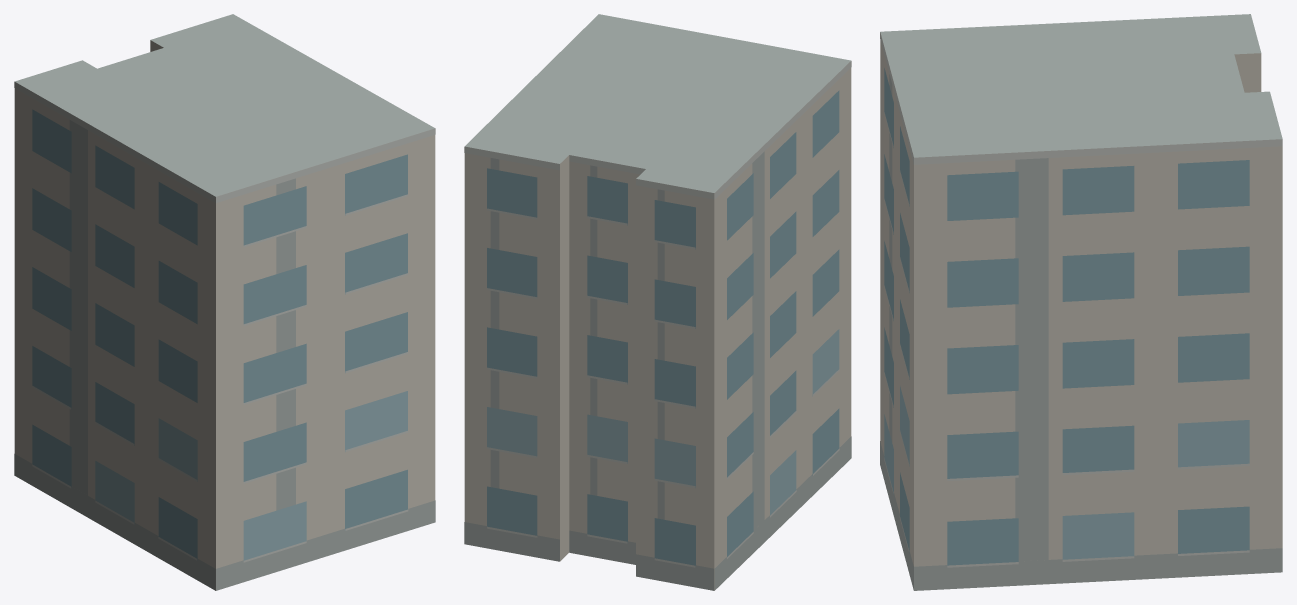
The model's file is survey-upis-32735138.glb.
3 views of the same model, side by side, from view 1: azimuth 30°, elevation 25°; view 2: azimuth 150°, elevation 25°; view 3: azimuth 270°, elevation 25° (orthographic). The views are drawn at different scales.
Visible parts, largest first — view 1: survey-upis-32735138.tmp; view 2: survey-upis-32735138.tmp; view 3: survey-upis-32735138.tmp.
Boxes of the visible parts, left/top/right/bottom form: survey-upis-32735138.tmp: left=14, top=14, right=435, bottom=590; survey-upis-32735138.tmp: left=464, top=14, right=851, bottom=590; survey-upis-32735138.tmp: left=880, top=14, right=1282, bottom=590.
Size of the model in its own units: 10.54 by 14.8 by 12.47.
